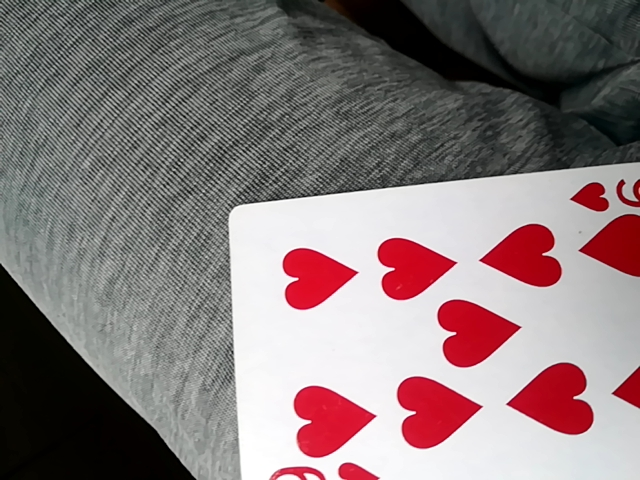hx 9: (230, 159, 640, 479)
